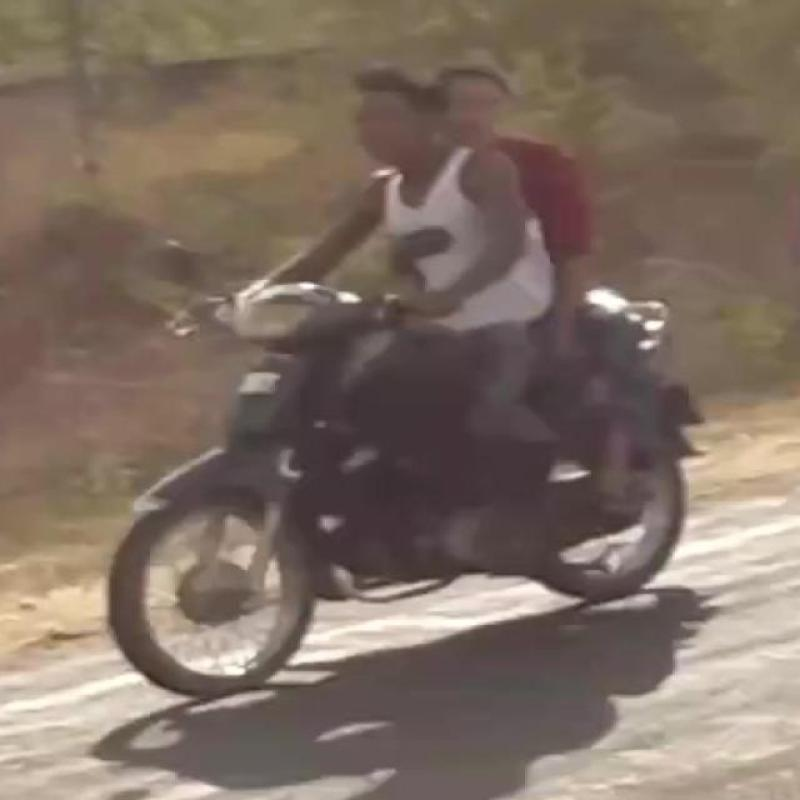nohelmet: (336, 50, 439, 159), (443, 59, 534, 150)
